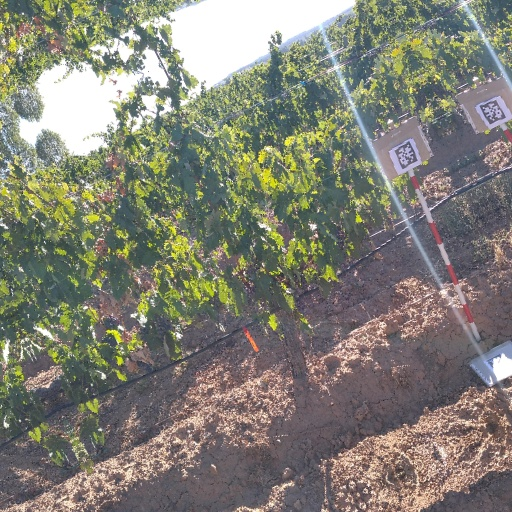QR: (392, 140, 421, 170)
